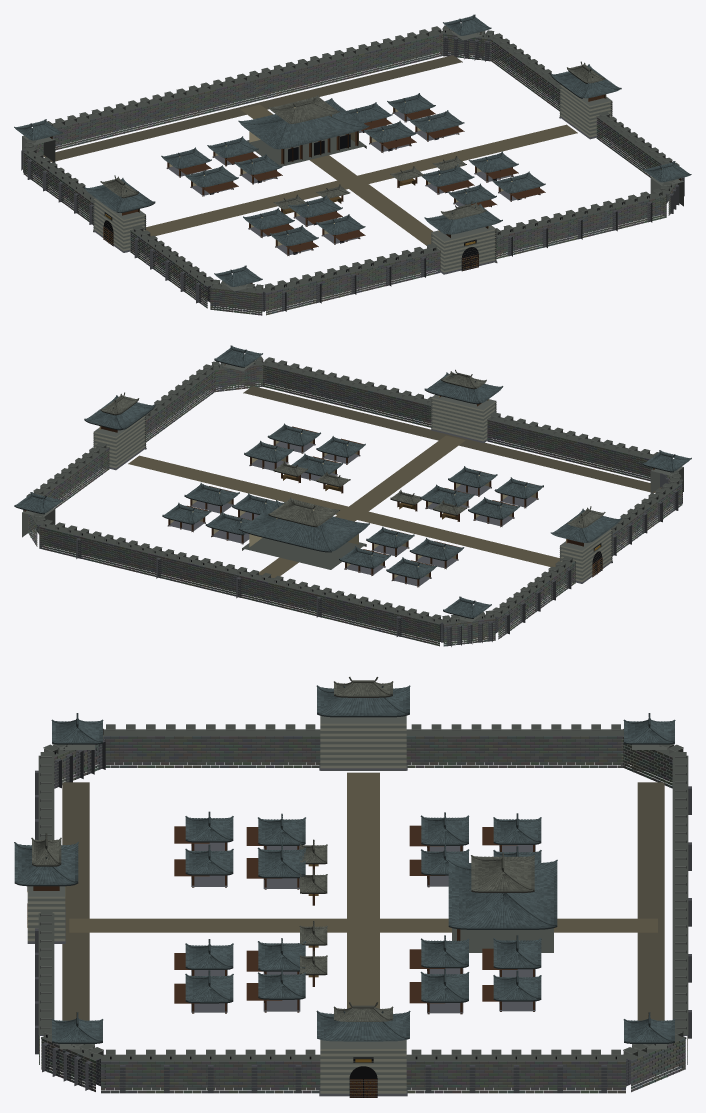
The model's file is TRB8-CITY-EASTWARD-001-v8.glb.
3 views of the same model, one above another, from view 1: azimuth 30°, elevation 25°; view 2: azimuth 150°, elevation 25°; view 3: azimuth 270°, elevation 25° (orthographic). The views are drawn at different scales.
Visible parts, largest first — view 1: TRB8-CITY-EASTWARD-001-v8; view 2: TRB8-CITY-EASTWARD-001-v8; view 3: TRB8-CITY-EASTWARD-001-v8.
Boxes of the visible parts, bbox=[...] form: TRB8-CITY-EASTWARD-001-v8: bbox=[14, 14, 691, 315]; TRB8-CITY-EASTWARD-001-v8: bbox=[14, 345, 691, 646]; TRB8-CITY-EASTWARD-001-v8: bbox=[14, 677, 691, 1097].
Bounding box in the file's own units: 36.87 × 4.34 × 29.94.
